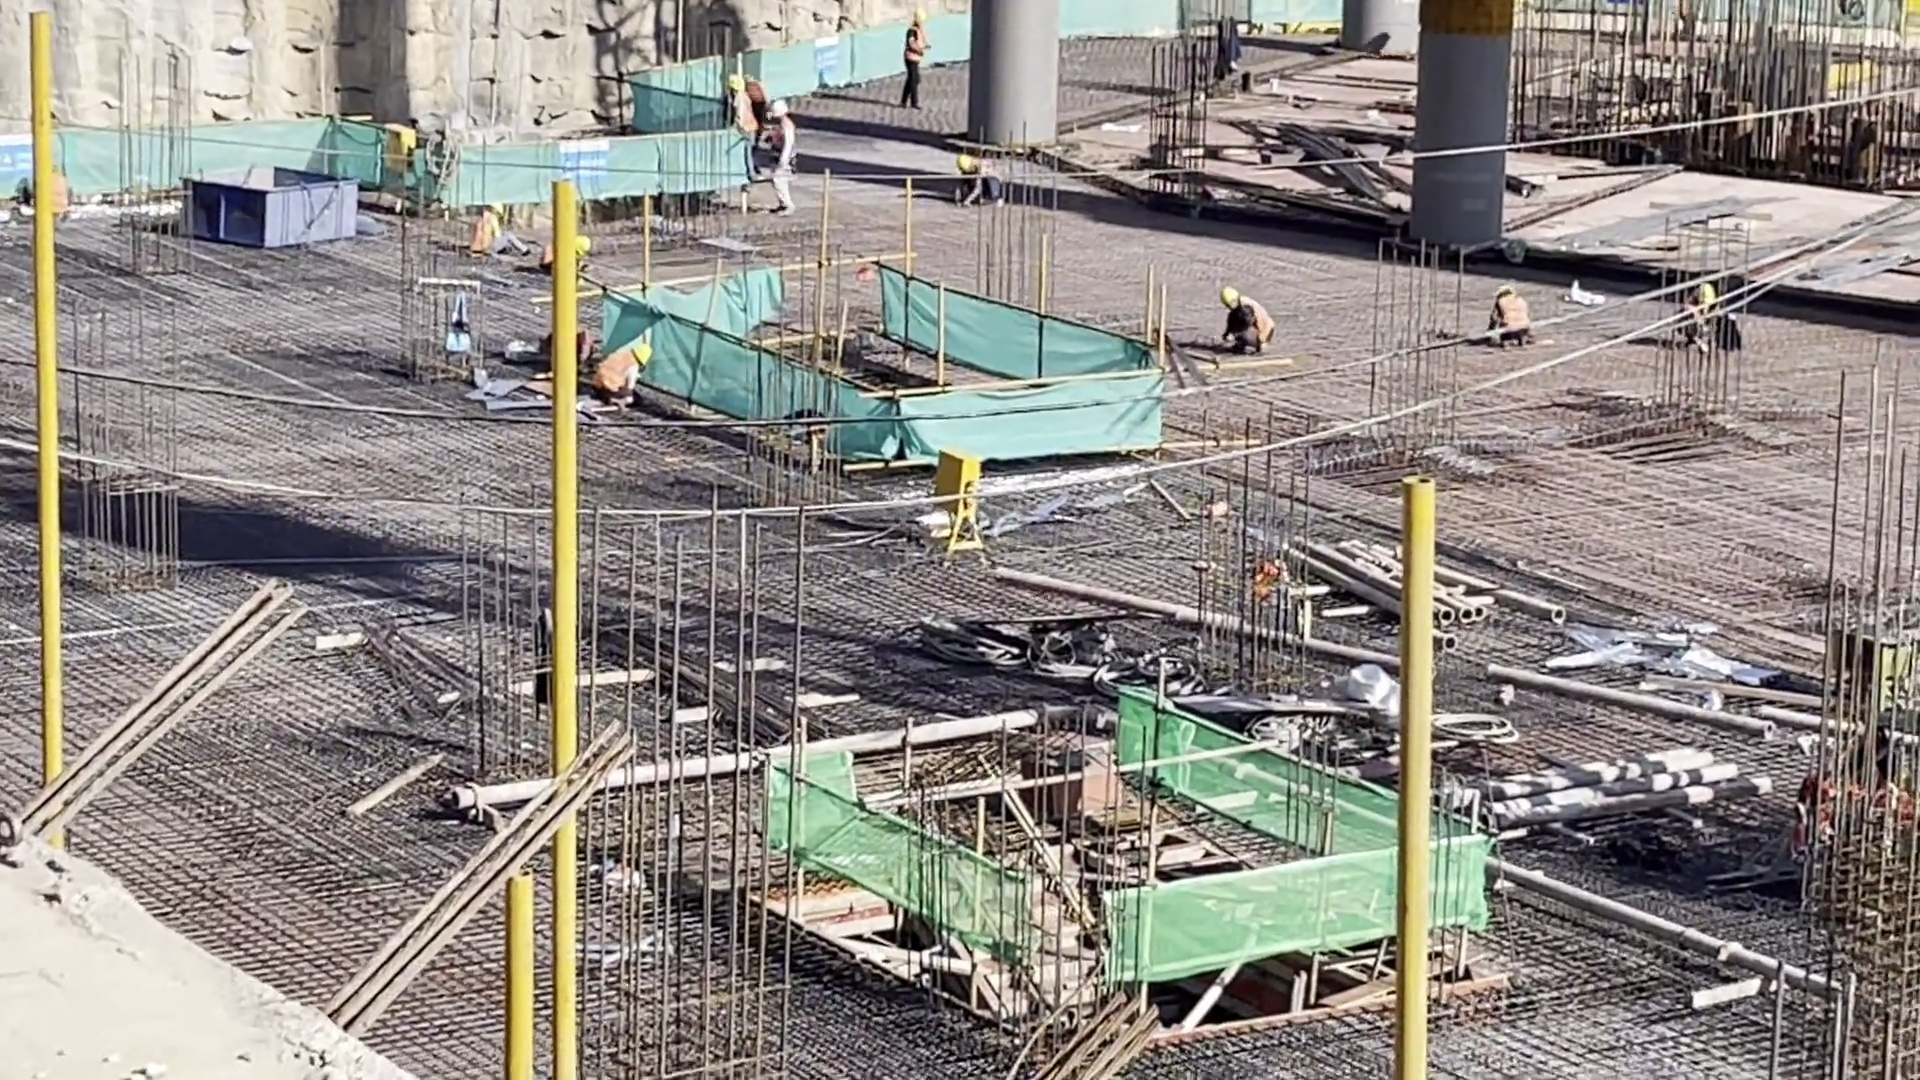ebox: (928, 459, 979, 546), (374, 129, 424, 171)
helmet: (725, 78, 745, 102), (1221, 285, 1235, 312), (492, 196, 511, 215), (772, 99, 786, 121), (634, 341, 652, 360), (635, 341, 652, 360), (911, 14, 927, 32), (956, 155, 975, 169), (746, 66, 761, 82), (578, 232, 590, 250), (1504, 285, 1516, 299)
hopper: (189, 171, 353, 241)
person: (1669, 278, 1736, 366), (1479, 280, 1534, 358), (1218, 270, 1271, 348), (723, 63, 763, 163), (901, 6, 931, 128), (763, 93, 796, 203), (606, 343, 643, 420), (466, 186, 511, 241), (958, 143, 1003, 198), (536, 226, 581, 278)
rebar: (1266, 106, 1411, 225)
vest: (767, 116, 804, 159), (1241, 294, 1279, 335), (598, 357, 639, 391), (734, 94, 758, 135), (978, 158, 1002, 196), (475, 213, 499, 249), (909, 25, 925, 65), (538, 241, 554, 268), (752, 79, 764, 103)
